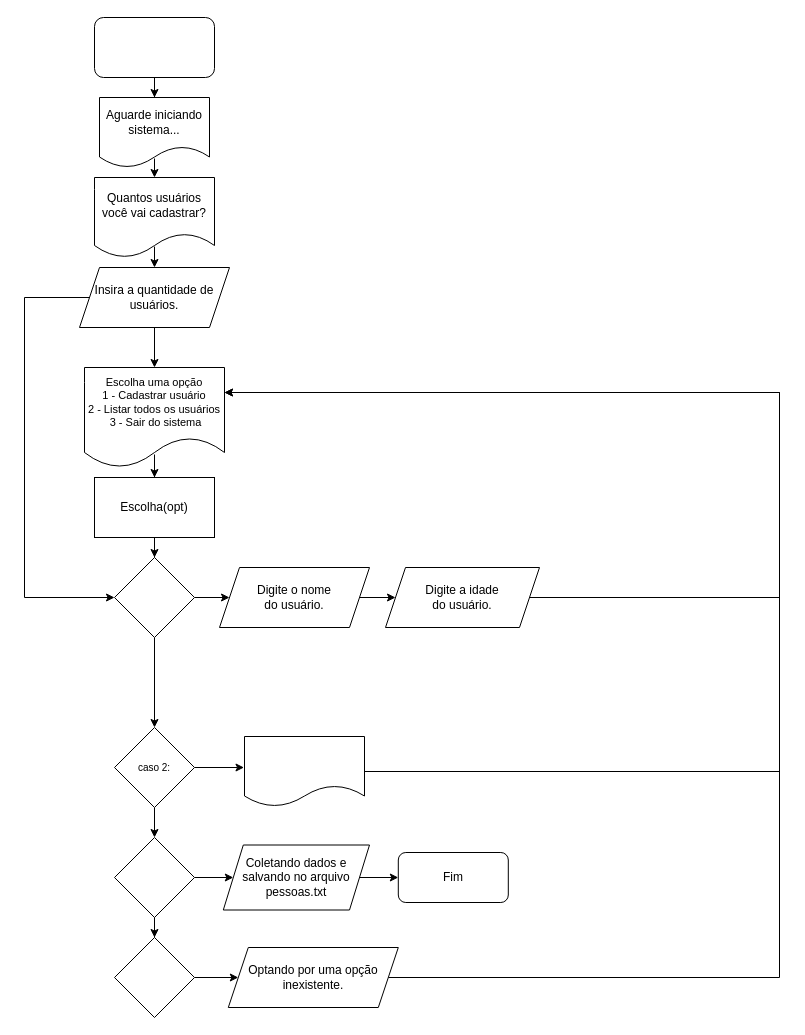
This 805x1035 diagram has some shape labels left out. Each missing label, with the box of its shape:
caso 1:: (114, 556, 194, 638)
caso 3:: (114, 836, 194, 918)
caso contrario:: (114, 936, 194, 1018)
inicio: (94, 16, 214, 78)
Listando usuários cadastrados: (244, 736, 364, 806)
